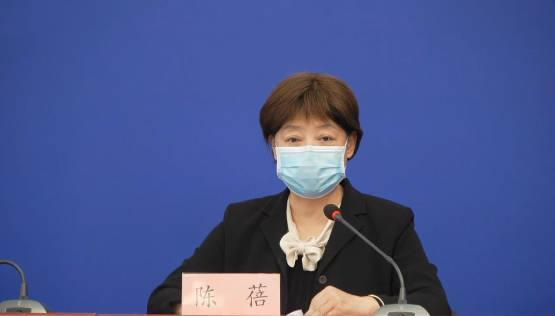mask: (272, 114, 358, 201)
